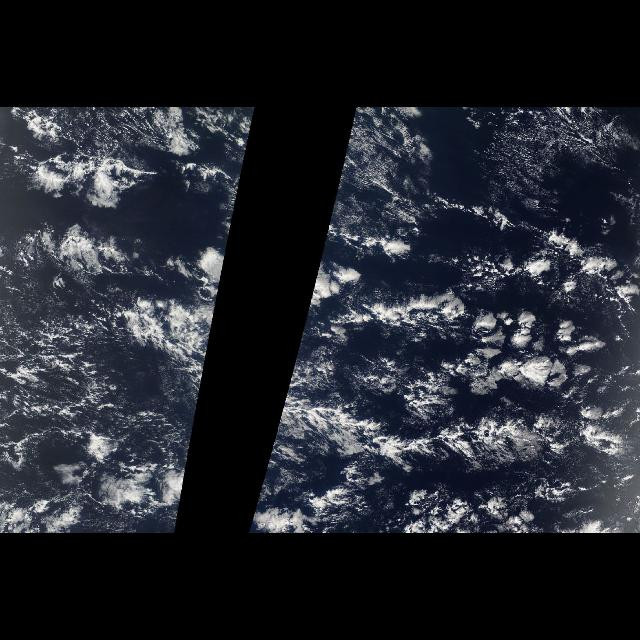Fish: (249, 402, 561, 528)
Flower: (286, 110, 640, 406), (1, 110, 255, 392)
